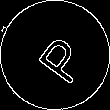P_NW: (24, 25, 86, 85)
